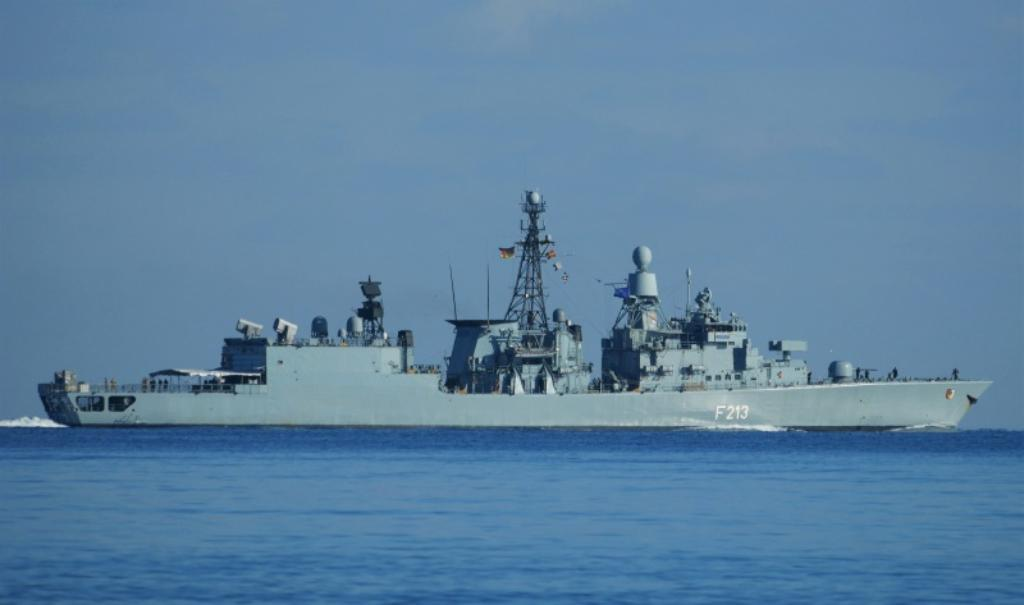Warship: (41, 179, 993, 436)
